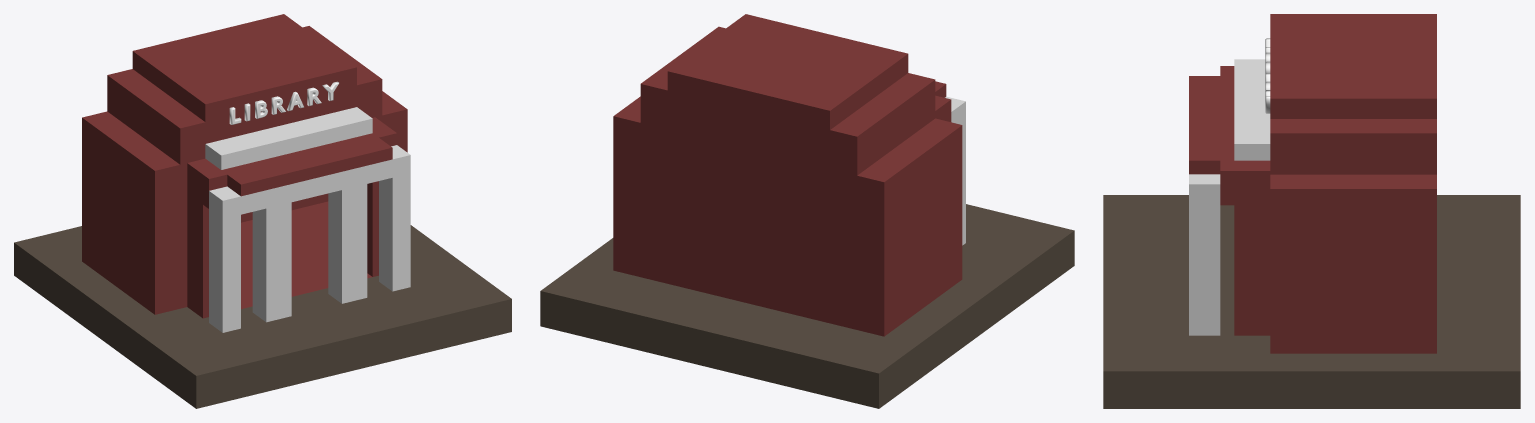
The model's file is library-1.glb.
3 views of the same model, side by side, from view 1: azimuth 30°, elevation 25°; view 2: azimuth 150°, elevation 25°; view 3: azimuth 270°, elevation 25° (orthographic). The views are drawn at different scales.
Visible parts, largest first — view 1: Grid.077; view 2: Grid.077; view 3: Grid.077.
Part boxes in pixels (x1=…): Grid.077: x1=14, y1=14, x2=511, y2=408; Grid.077: x1=540, y1=14, x2=1074, y2=408; Grid.077: x1=1103, y1=14, x2=1520, y2=408.
Size of the model in its own units: 1 by 0.7 by 1.
